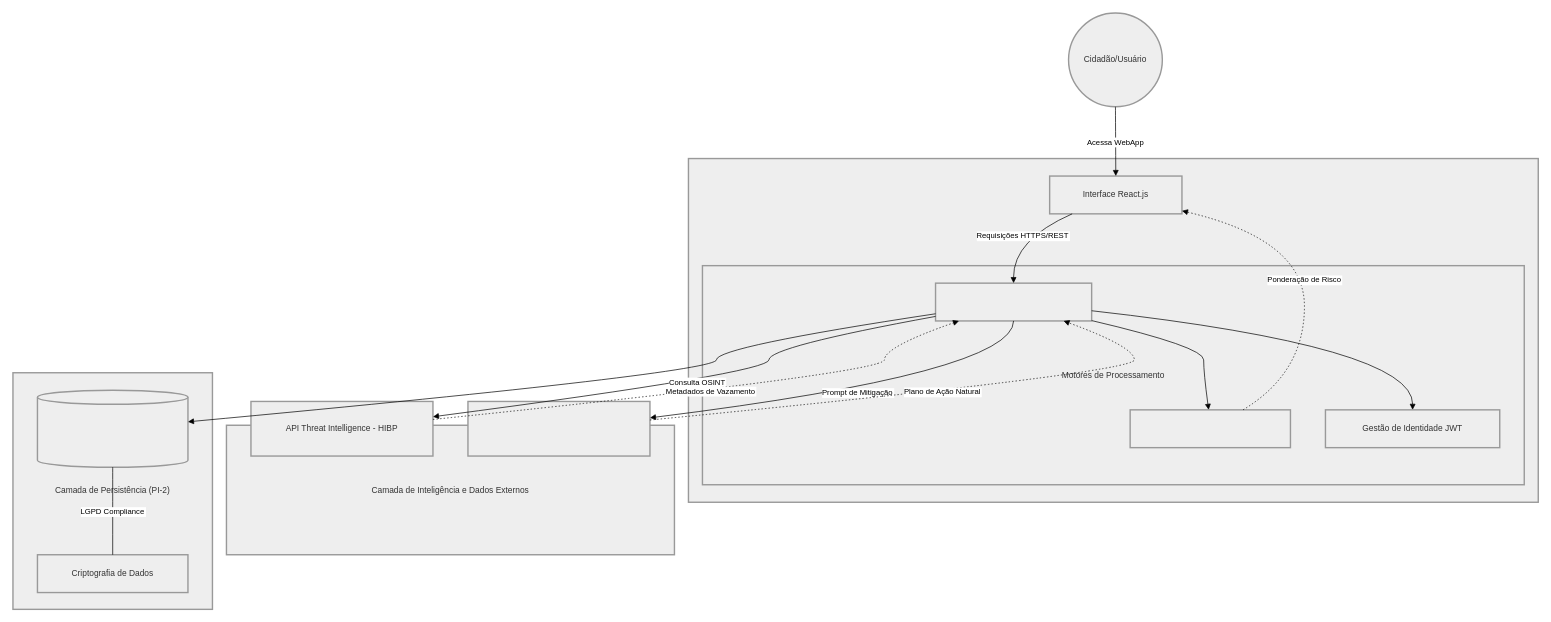
The diagram is 1551 pixels wide and 622 high, and some of its shapes have lost their labels. Here are the shapes that lost their labels. From the top down, the centre of each, then its label:
At (x=1013, y=301): "API Gateway / Node.js".
At (x=112, y=428): "Banco de Dados Relacional - PostgreSQL/MySQL".
At (x=558, y=428): "Modelo de Linguagem - LLM/IA".
At (x=1210, y=428): "Algoritmo de Risk Score".
